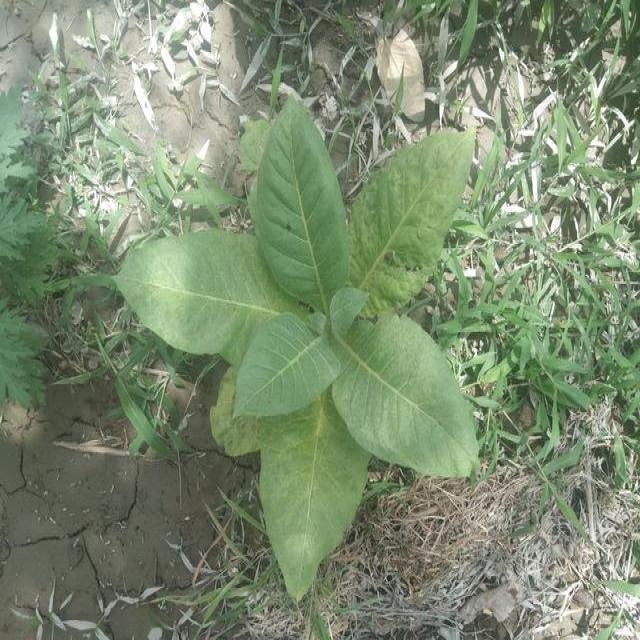crop: (129, 106, 483, 604)
